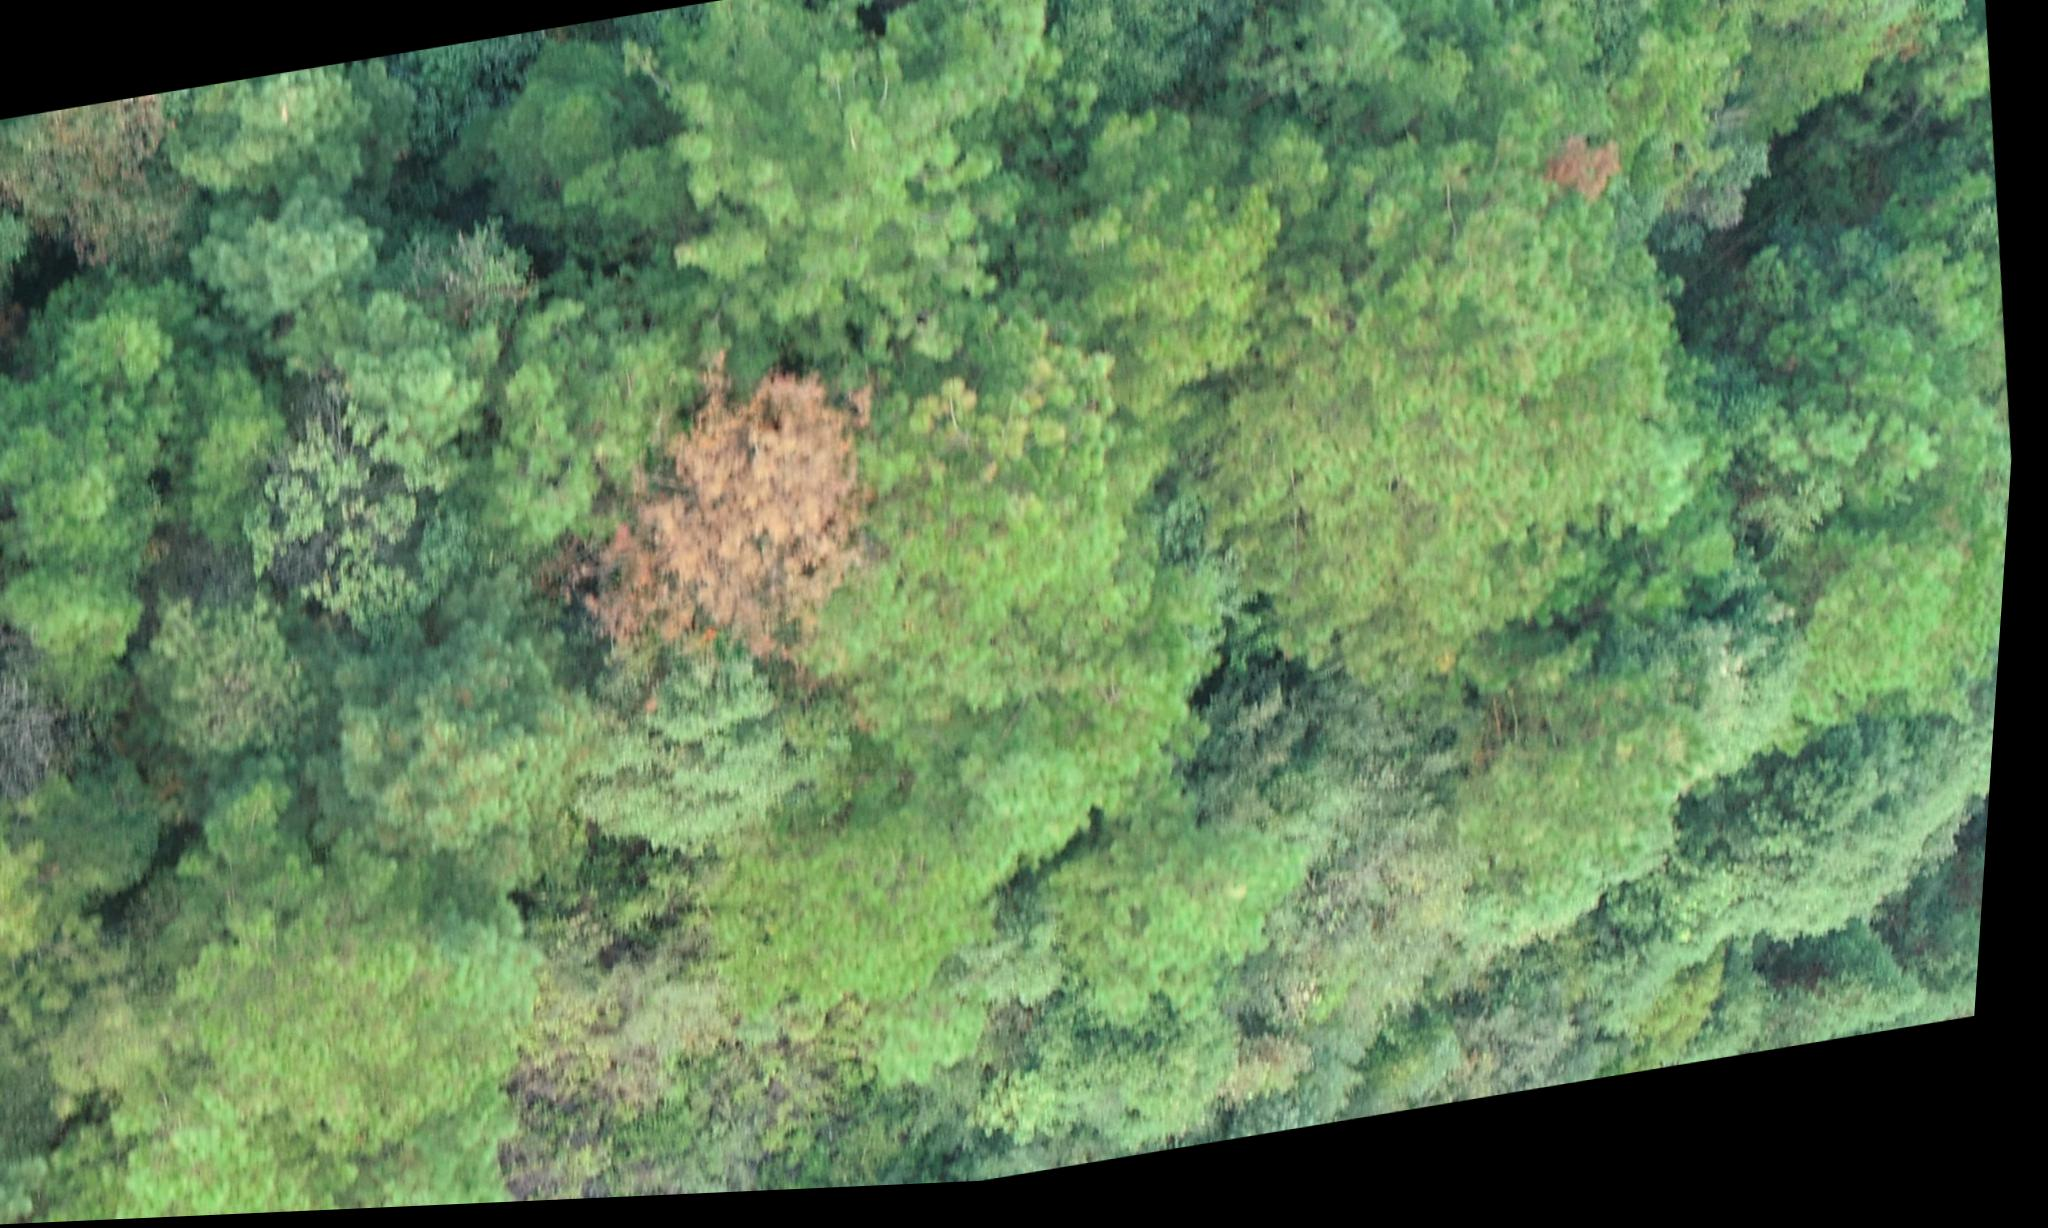heavy: (553, 336, 918, 729)
